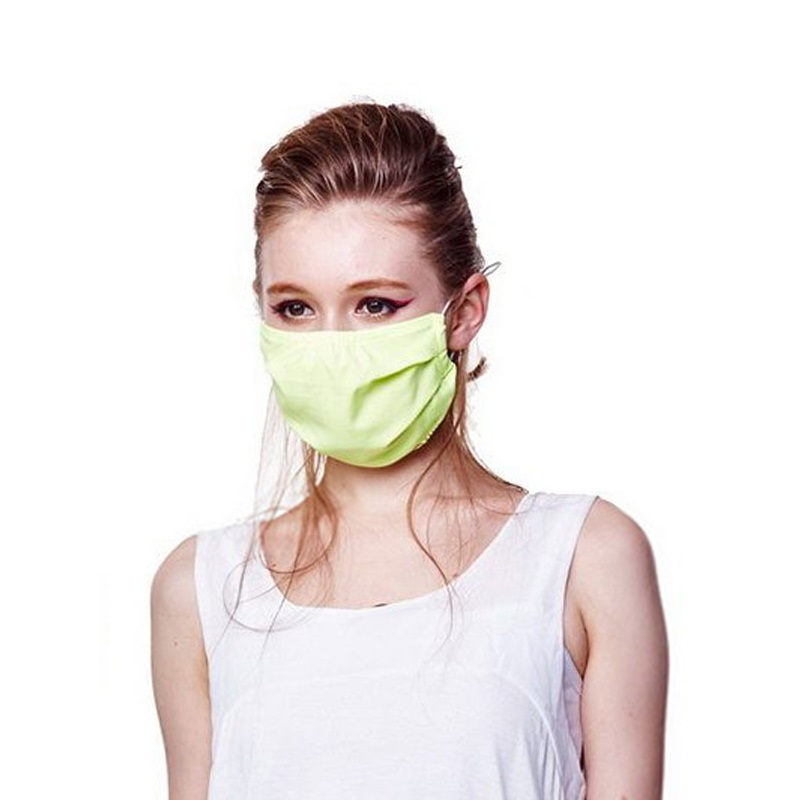face_mask: (256, 189, 438, 468)
